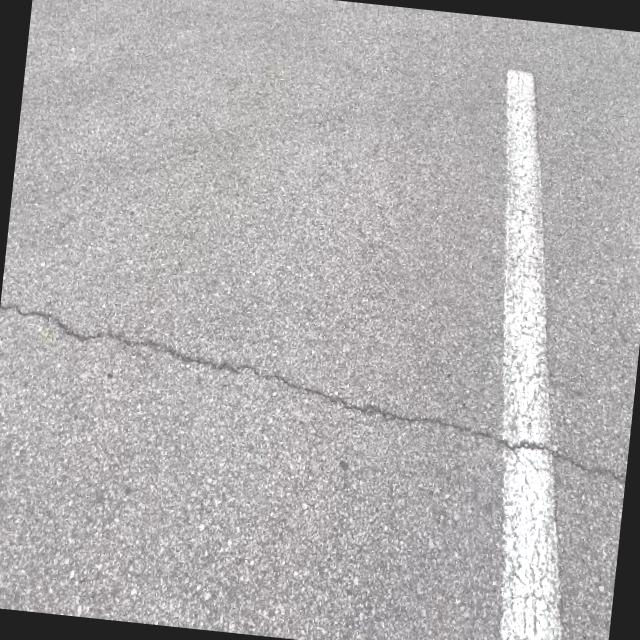Retak-Melintang: (0, 299, 624, 476)
